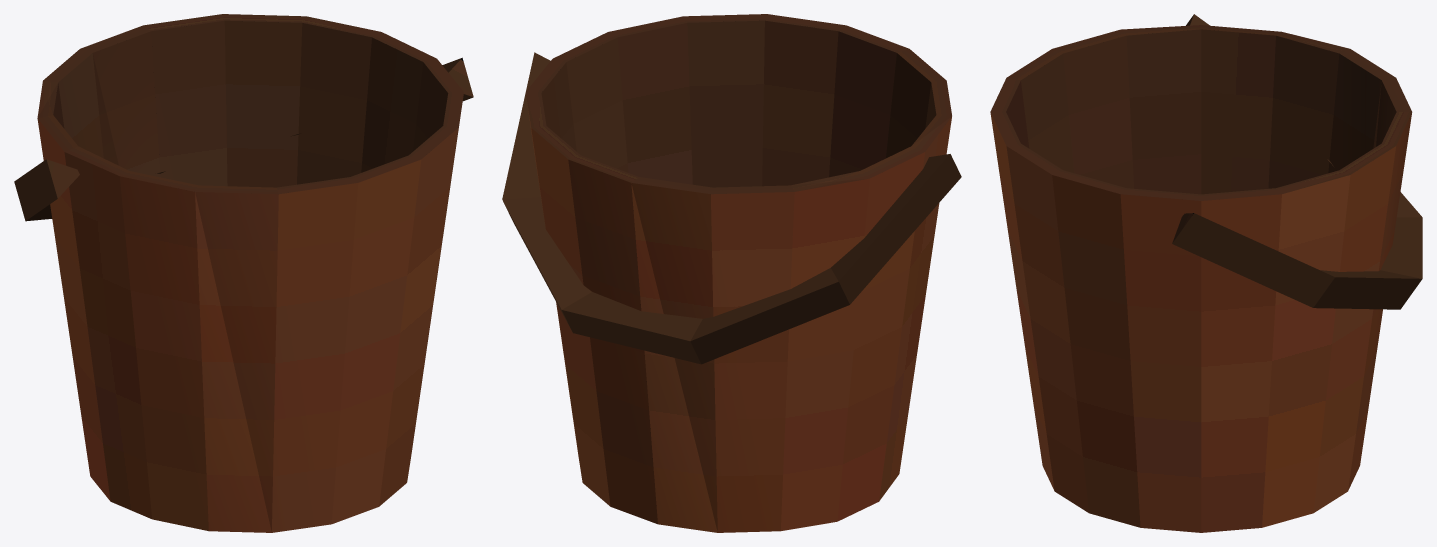
The model's file is EmptyBucket.glb.
The picture shows the model from 3 angles, left to right: view 1: azimuth 30°, elevation 25°; view 2: azimuth 150°, elevation 25°; view 3: azimuth 270°, elevation 25°; orthographic projection.
Visible parts, largest first — view 1: Bucket; view 2: Bucket; view 3: Bucket.
Part boxes in pixels (bbox=[...]): Bucket: bbox=[14, 14, 473, 532]; Bucket: bbox=[502, 14, 961, 532]; Bucket: bbox=[990, 14, 1422, 532].
Size of the model in its own units: 0.603 by 0.5032 by 0.5533.
Materials: 1 (1 with a texture image).
